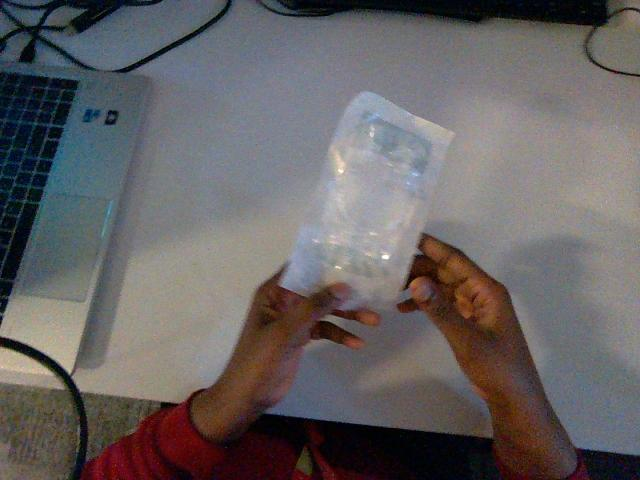gallipot: (280, 92, 453, 309)
